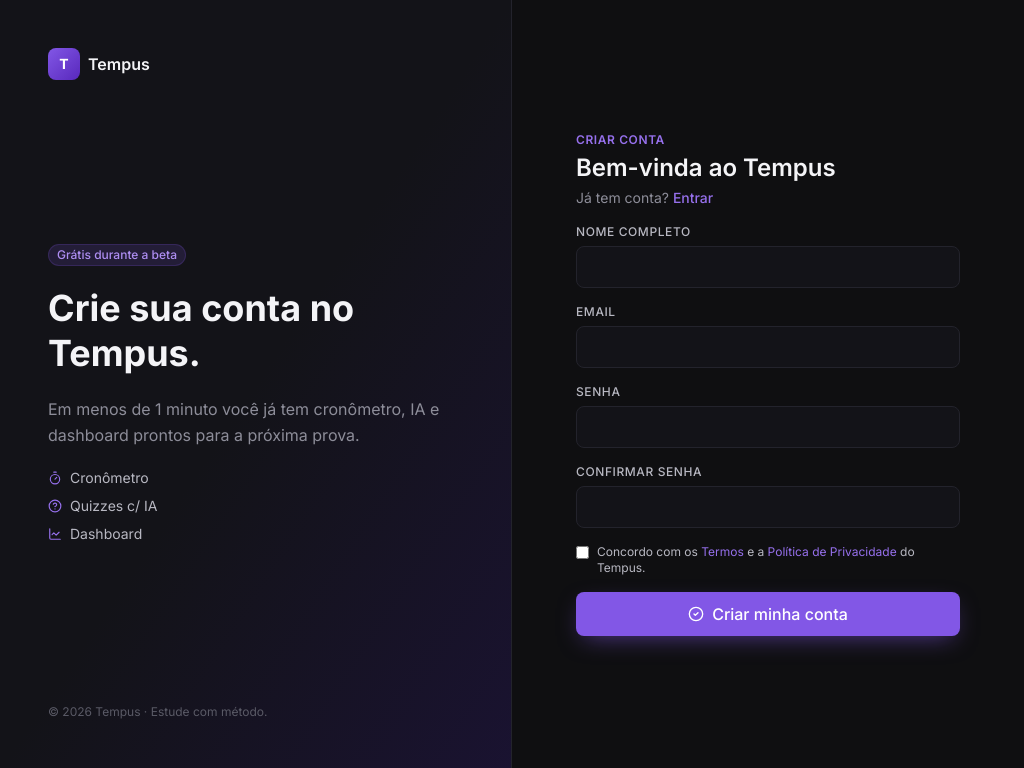
Test case: RegisterPage › mostra o medidor de força da senha quando o usuário digita
Type "Abc123!@" into the password field labelled "Senha" at (768, 427), box x1=576 y1=406 x2=960 y2=448
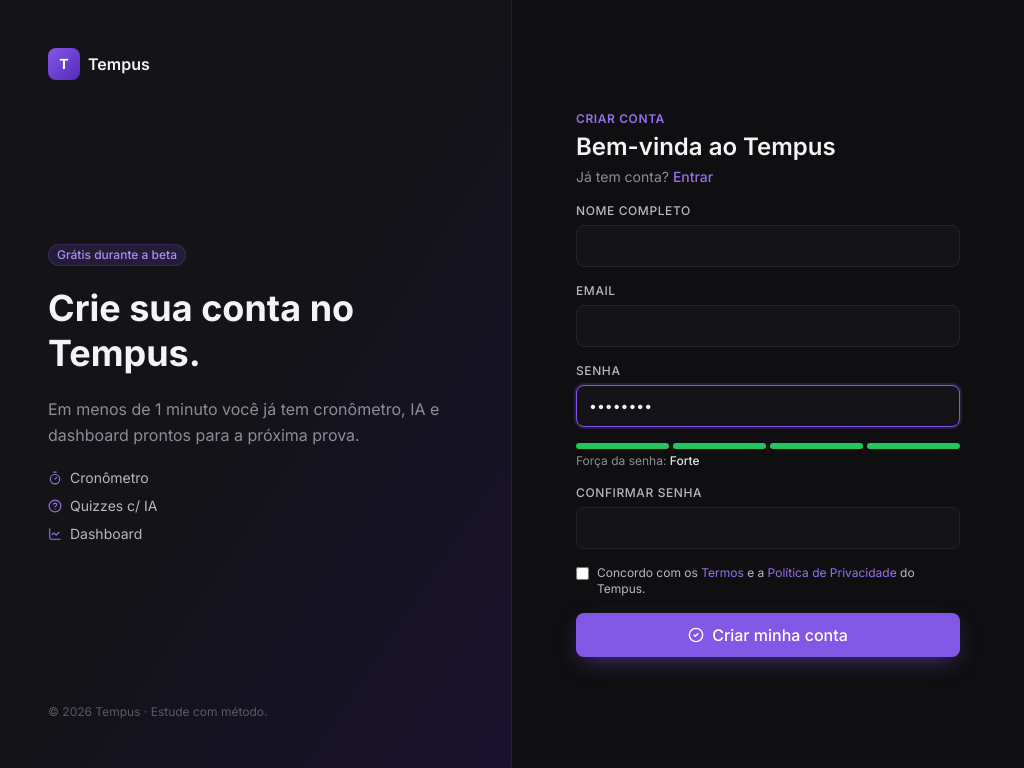
Now the text "Força da senha: Forte" is shown, box x1=576 y1=453 x2=700 y2=468
